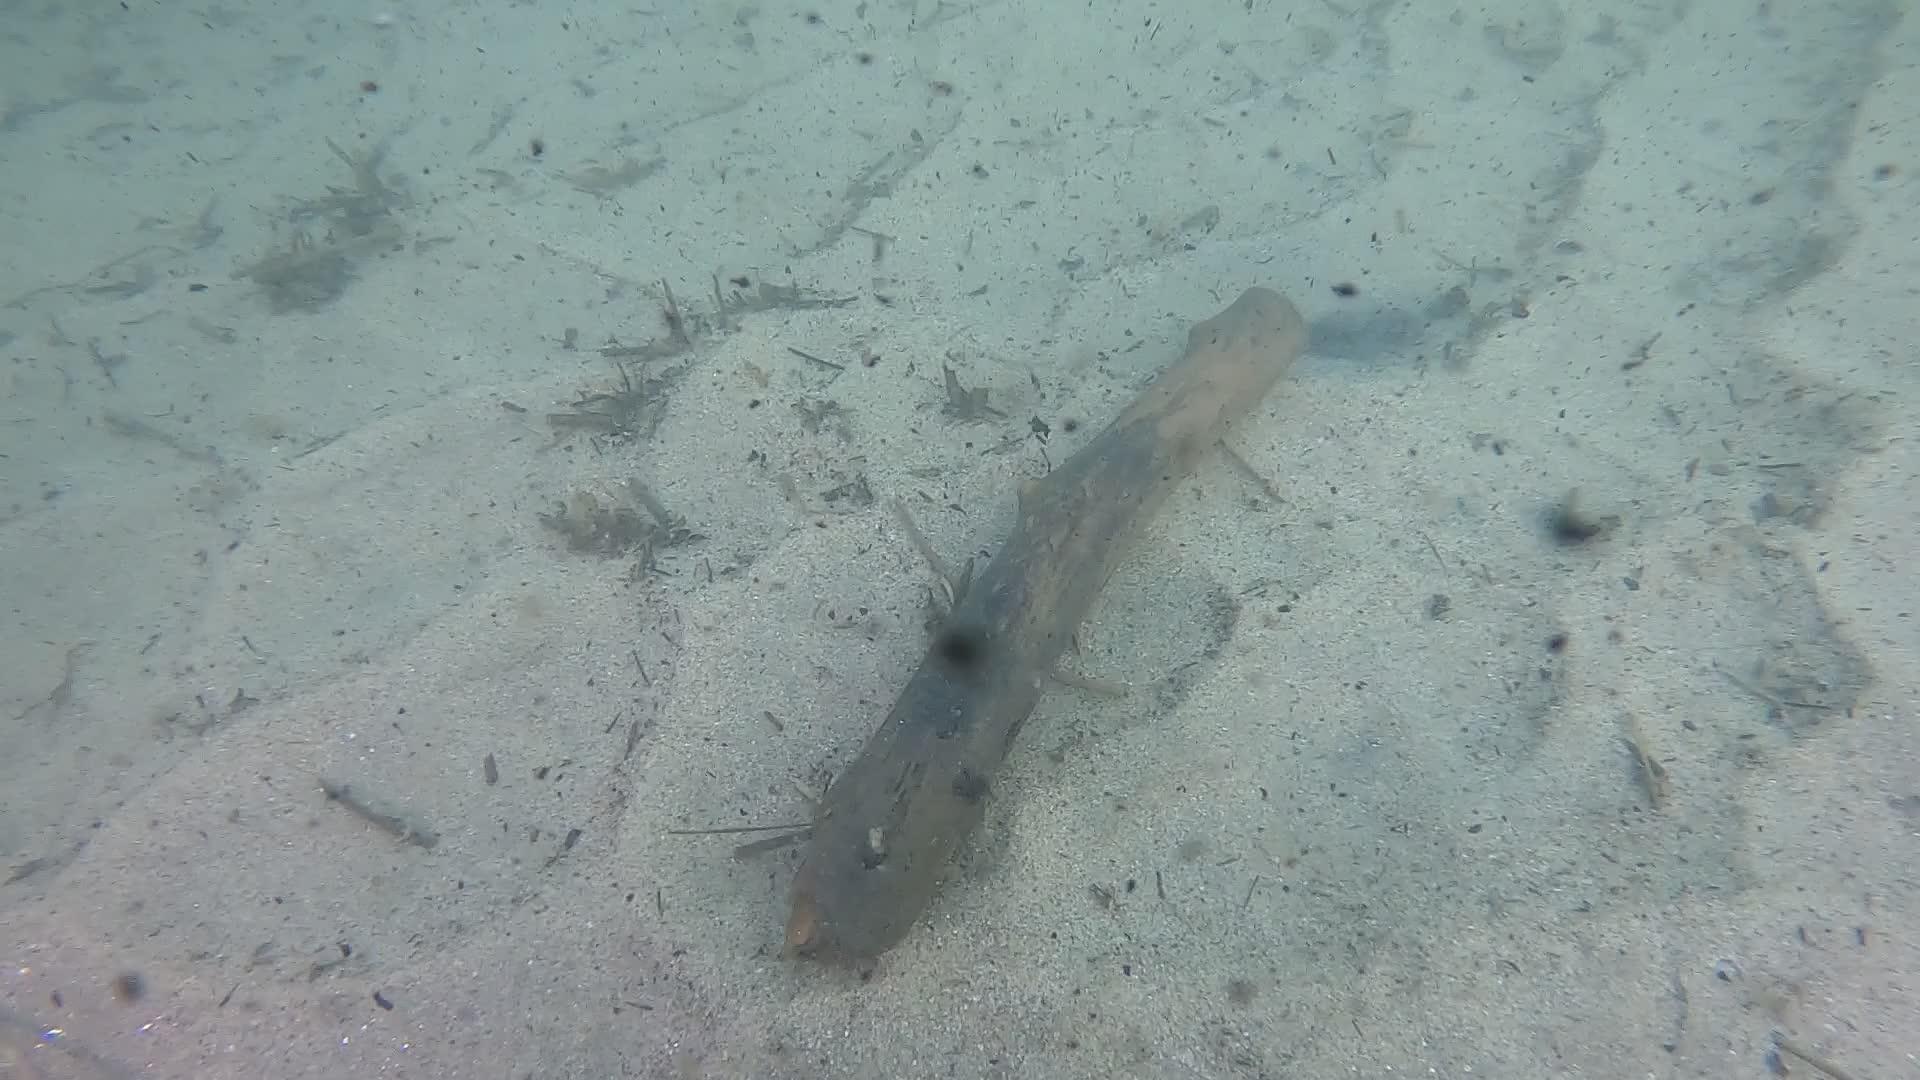wood: (785, 285, 1308, 963)
